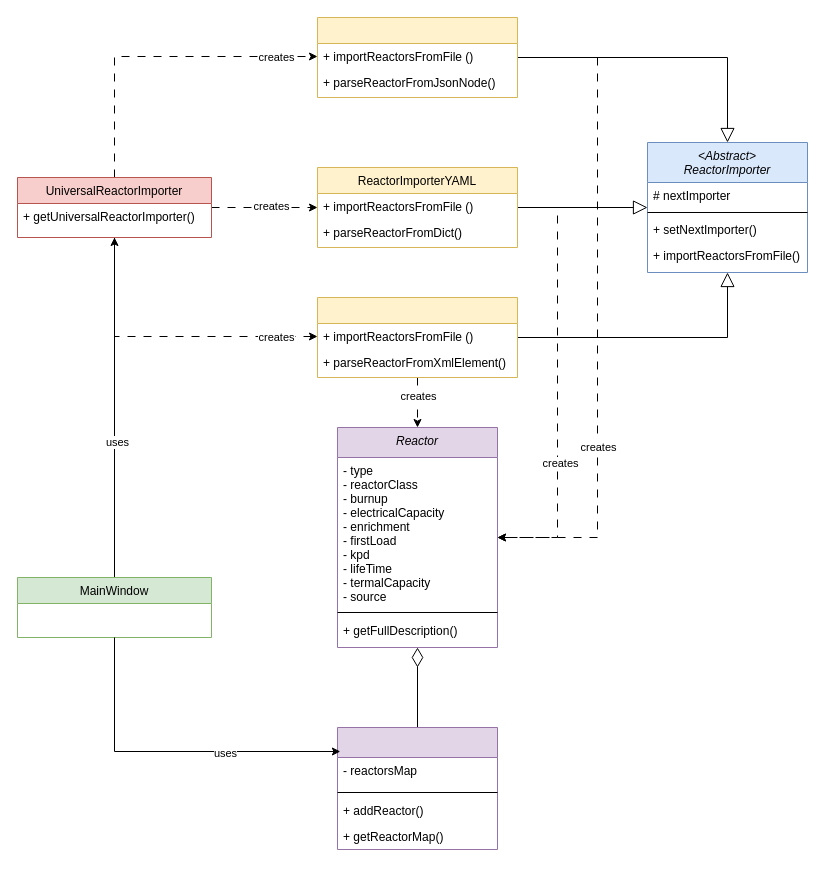
Some shapes in this 825 by 870 pixel diagram are drawn without their labels. Each missing label, with the box of its shape:
ReactorImporterJSON: (316, 16, 518, 98)
ReactorImporterXML: (316, 296, 518, 378)
ReactorsOwner: (336, 726, 498, 850)
